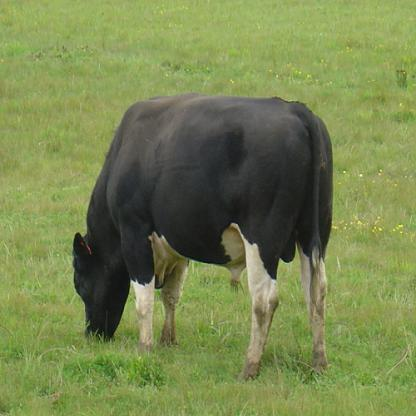cow: (70, 98, 334, 378)
